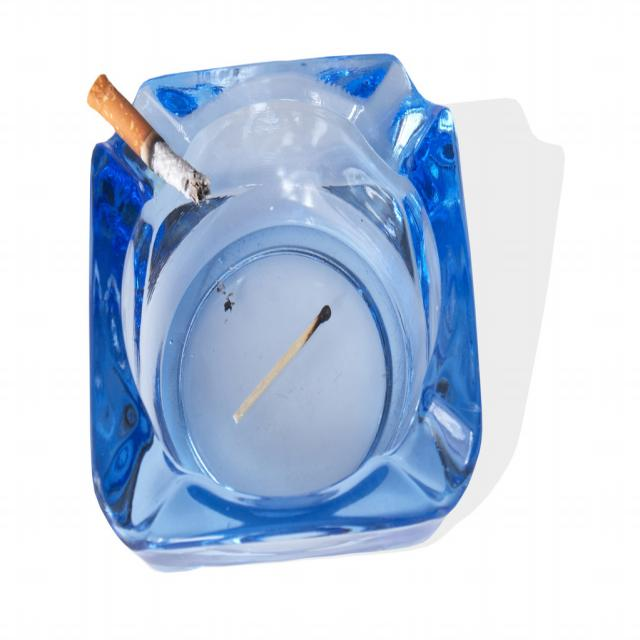smoking: (88, 72, 208, 214)
